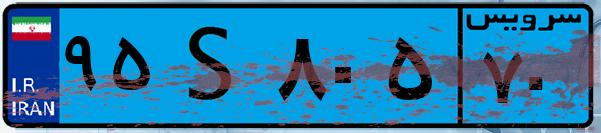0: (330, 28, 385, 110), (525, 38, 570, 115)
5: (385, 28, 445, 110), (110, 28, 158, 98)
7: (475, 38, 525, 113)
8: (270, 28, 330, 110)
9: (57, 26, 110, 100)
S: (158, 12, 270, 120)
